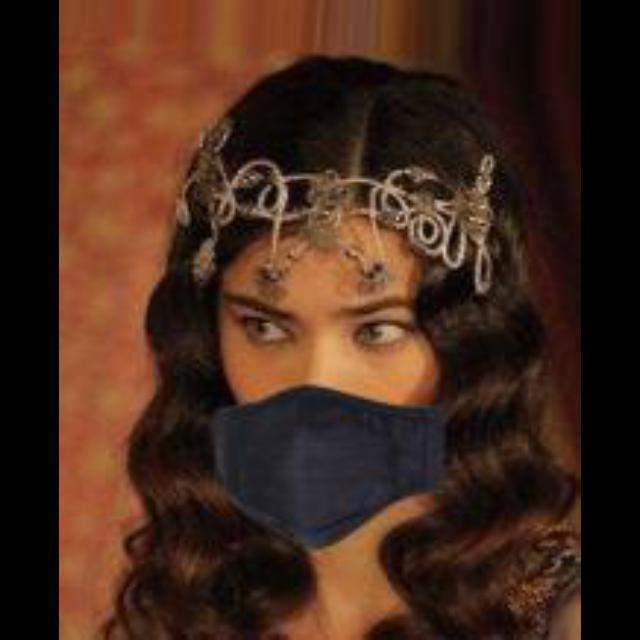suspicion: (198, 111, 536, 551)
